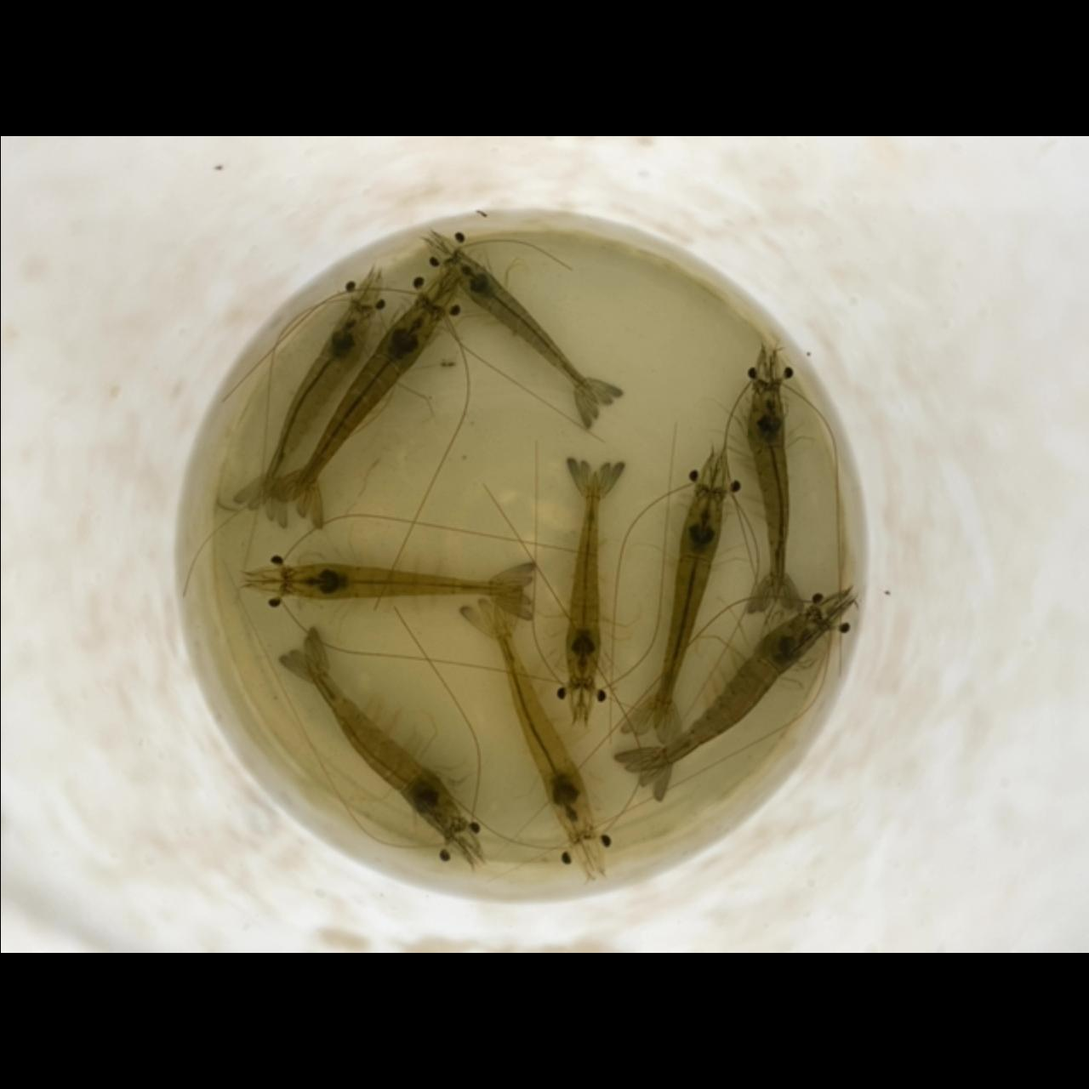round_base: (211, 230, 846, 867)
top_shrimp: (641, 612, 826, 771), (290, 300, 437, 500), (302, 652, 461, 836), (493, 613, 592, 841), (447, 254, 595, 403), (254, 318, 363, 497), (653, 490, 721, 728), (746, 383, 788, 599), (283, 564, 519, 600), (565, 469, 600, 688)
